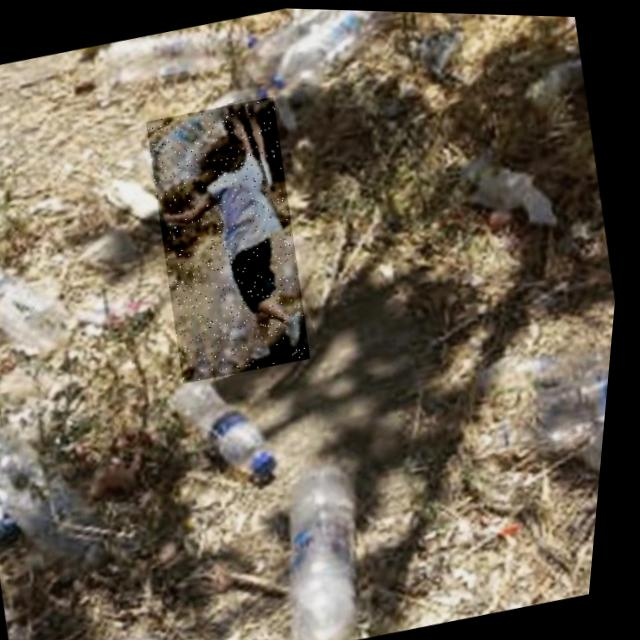Person in Rubble: (130, 92, 335, 385)
